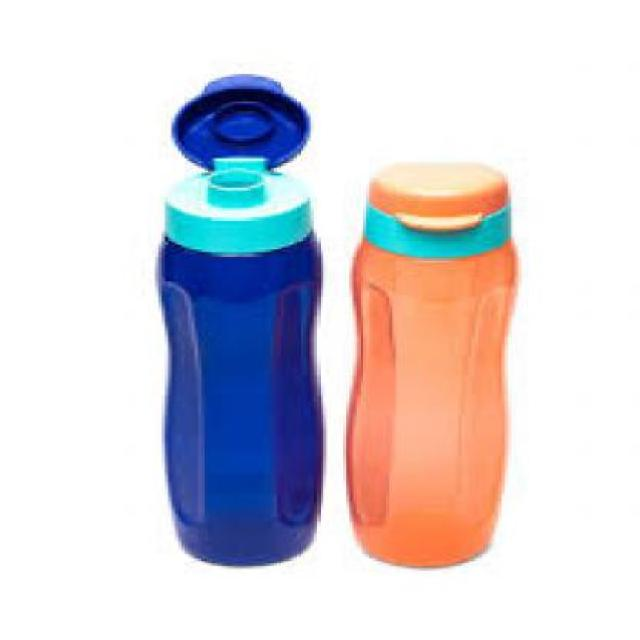Drinking: (145, 77, 323, 578), (343, 165, 557, 566)
